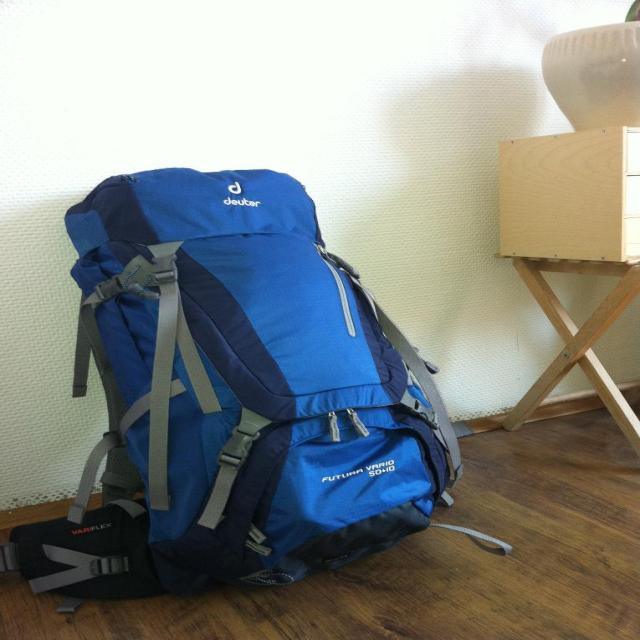backpack: (36, 166, 458, 570)
